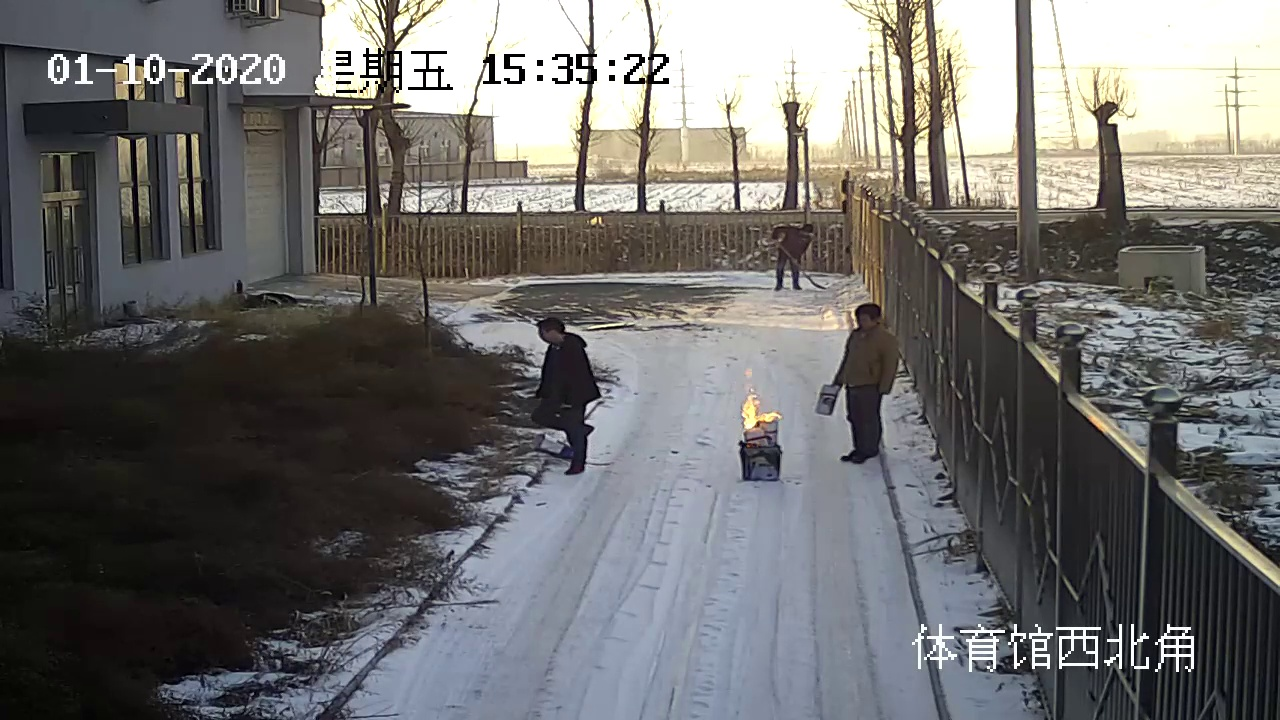fire: (738, 393, 781, 432)
